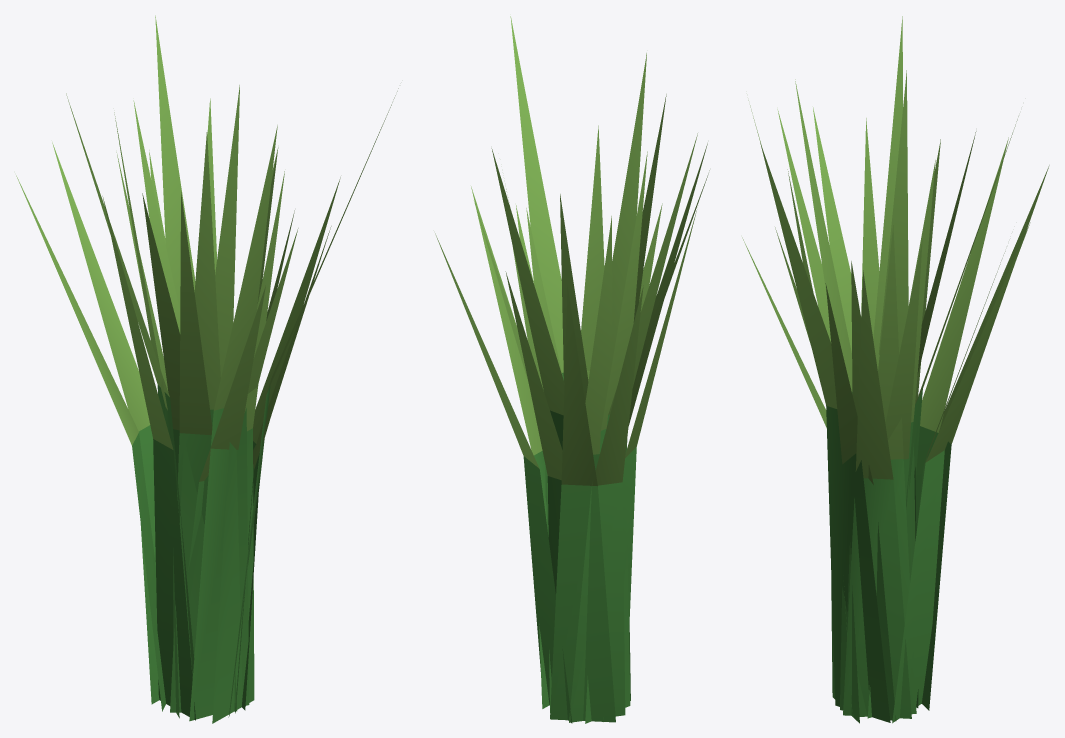
File: shrub_grass_b.glb
The picture shows the model from 3 angles, left to right: view 1: azimuth 30°, elevation 25°; view 2: azimuth 150°, elevation 25°; view 3: azimuth 270°, elevation 25°; orthographic projection. The views are drawn at different scales.
Visible parts, largest first — view 1: Body; view 2: Body; view 3: Body.
Boxes of the visible parts, bbox=[...] form: Body: bbox=[16, 15, 398, 723]; Body: bbox=[435, 16, 709, 723]; Body: bbox=[742, 16, 1049, 723].
Size of the model in its own units: 0.4157 by 0.9475 by 0.4215.
1 material, 1 textured.
